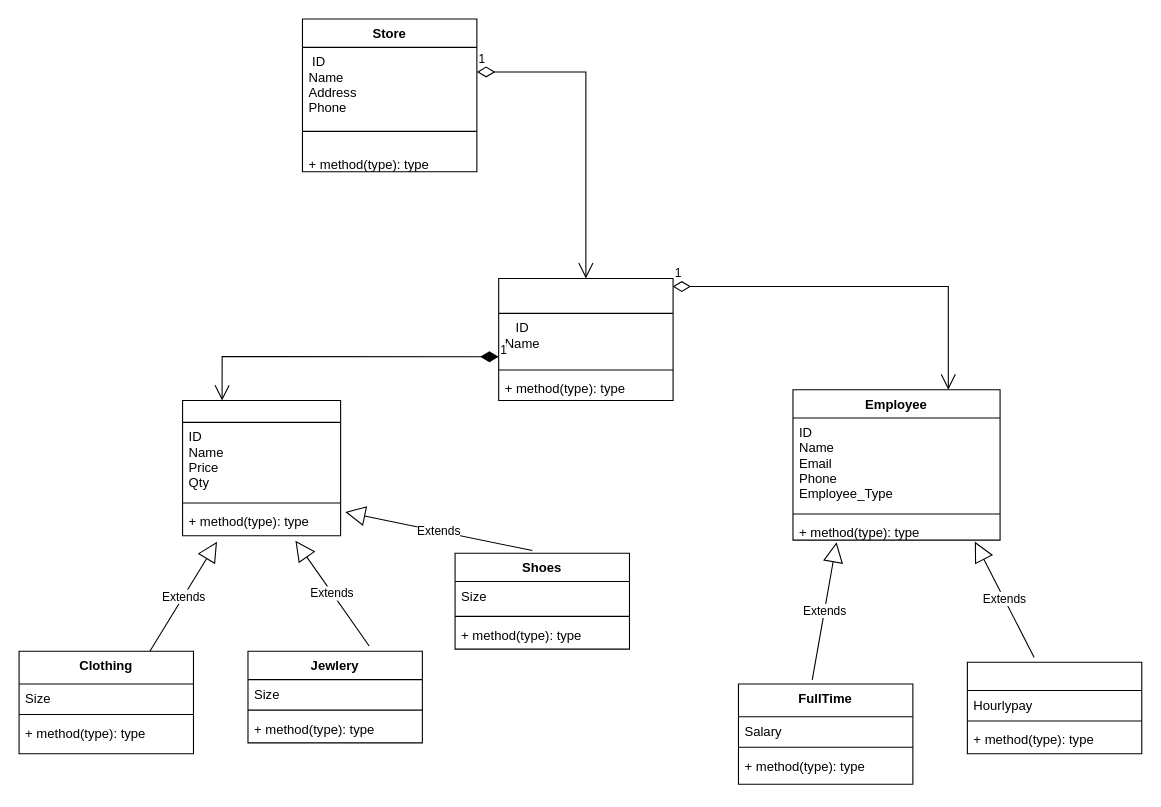
Some shapes in this 1161 by 807 pixel diagram are drawn without their labels. Here are the shapes that lost their labels. From the top down, the box of each, then its label:
(498, 277, 673, 401): Department
(181, 399, 341, 536): Product
(966, 661, 1142, 754): PartTime
